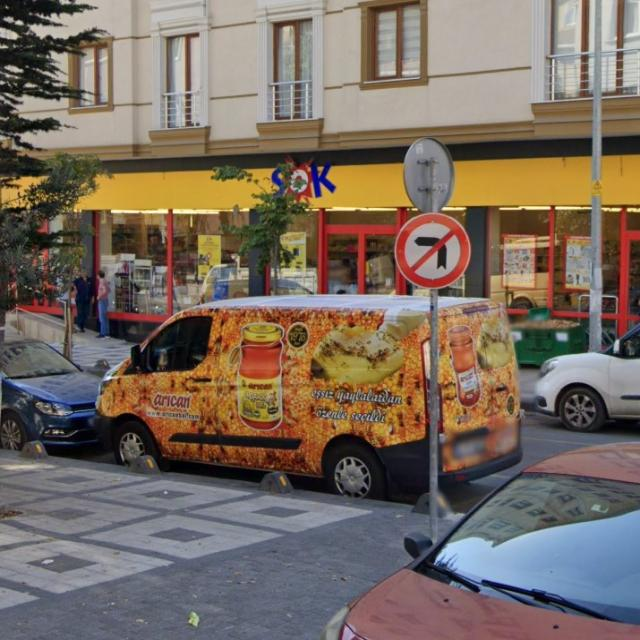soladonulmez: (394, 213, 472, 290)
